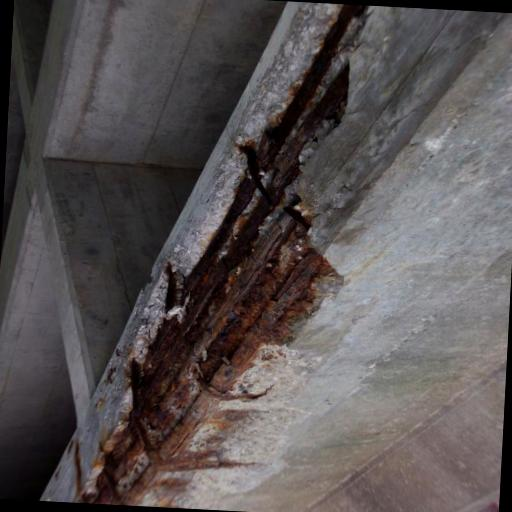spalling: (58, 14, 379, 507)
